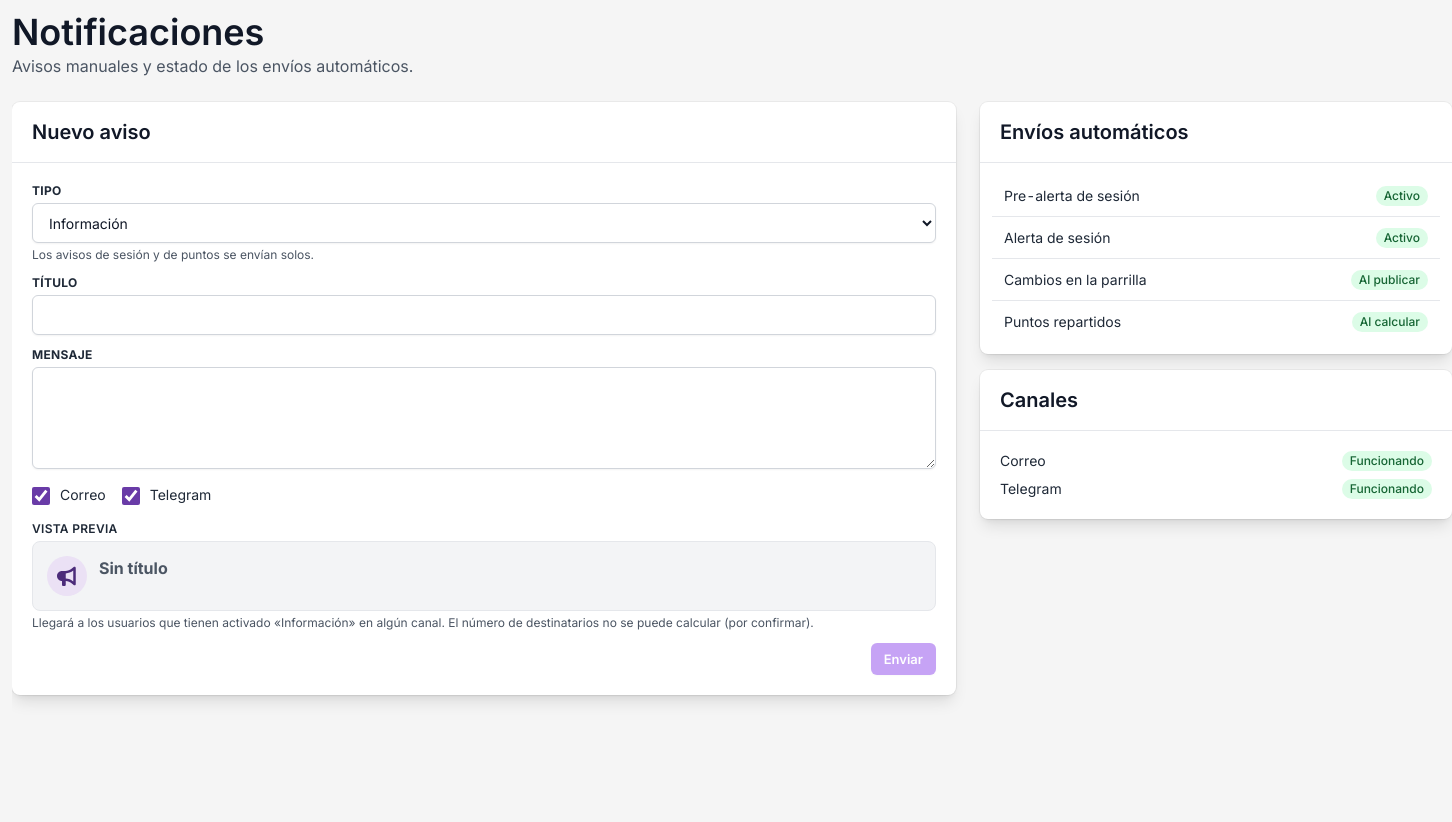
Test: admin notifications (M12) › previews live and needs title, message and a channel
The width and height of the screenshot is (1452, 822).
Expected: the checkbox labelled "Correo" is shown, [32, 487, 50, 505]
Expected: the button "Enviar" is disabled, [871, 643, 936, 675]
Type "Nuevo: Mi temporada" into the field labelled "Título". click: (484,315)
box: [32, 295, 936, 335]
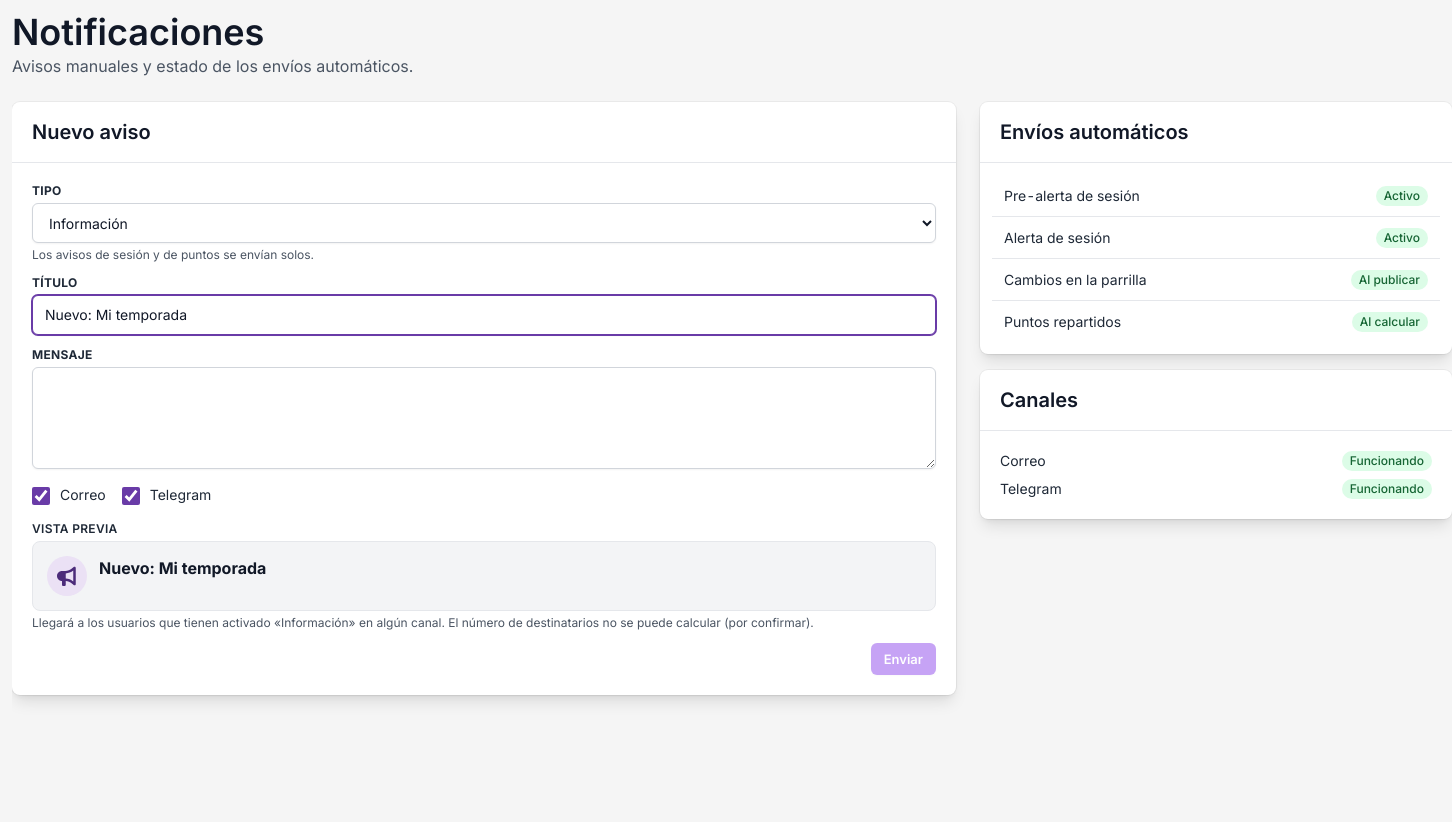
Type "Mira tu año de un vistazo." into the text box labelled "Mensaje". click: (484,418)
box: [32, 367, 936, 469]
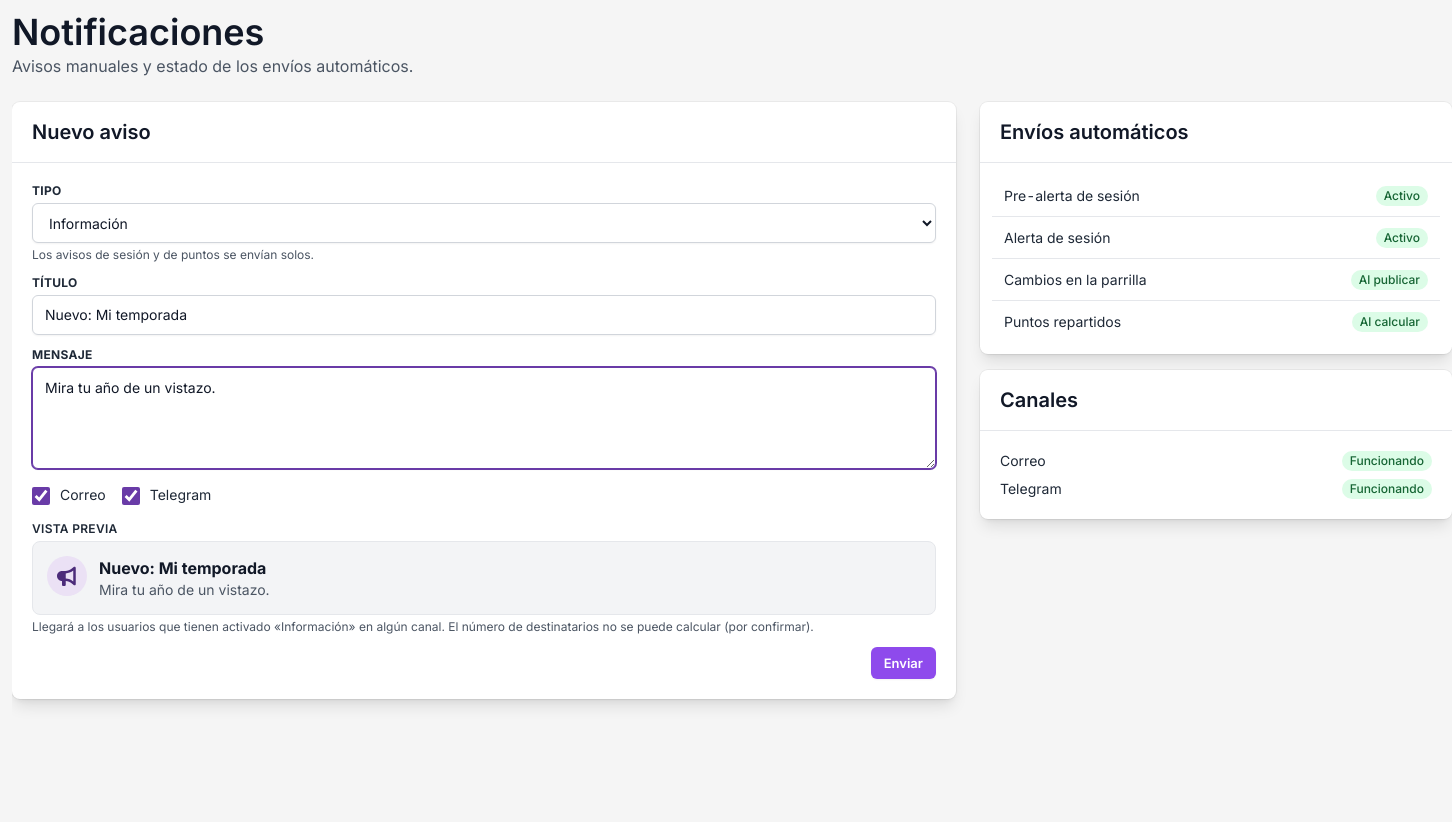
Expected: the text "Nuevo: Mi temporada" is shown, [99, 556, 270, 580]
Expected: the text "Mira tu año de un vistazo." is shown, [99, 580, 270, 600]
Expected: the button "Enviar" is enabled, [871, 647, 936, 679]
Click the checkbox labelled "Correo". click: (41,496)
box: [32, 487, 50, 505]
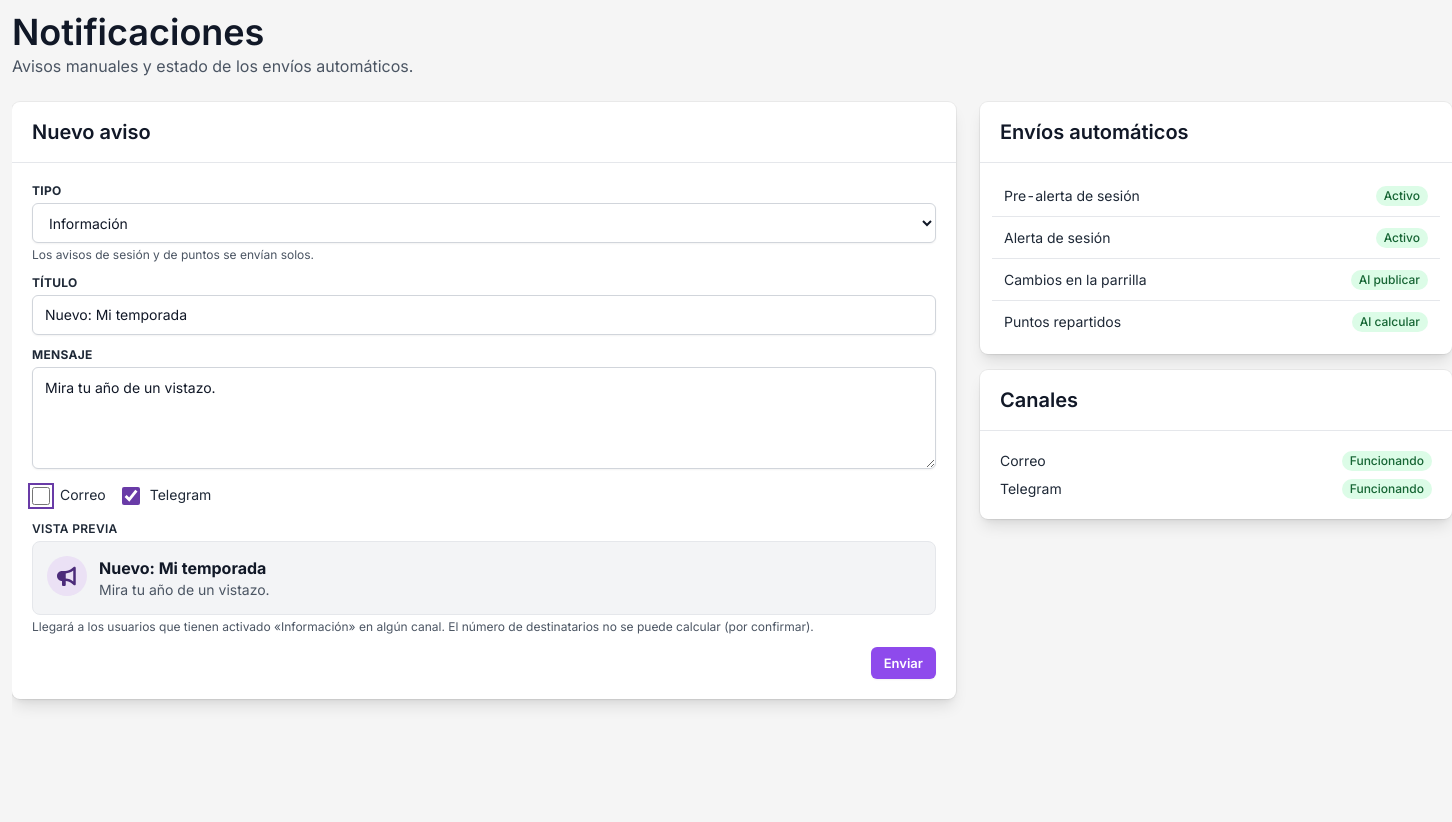
Click the checkbox labelled "Telegram". click: (131,496)
box: [122, 487, 140, 505]
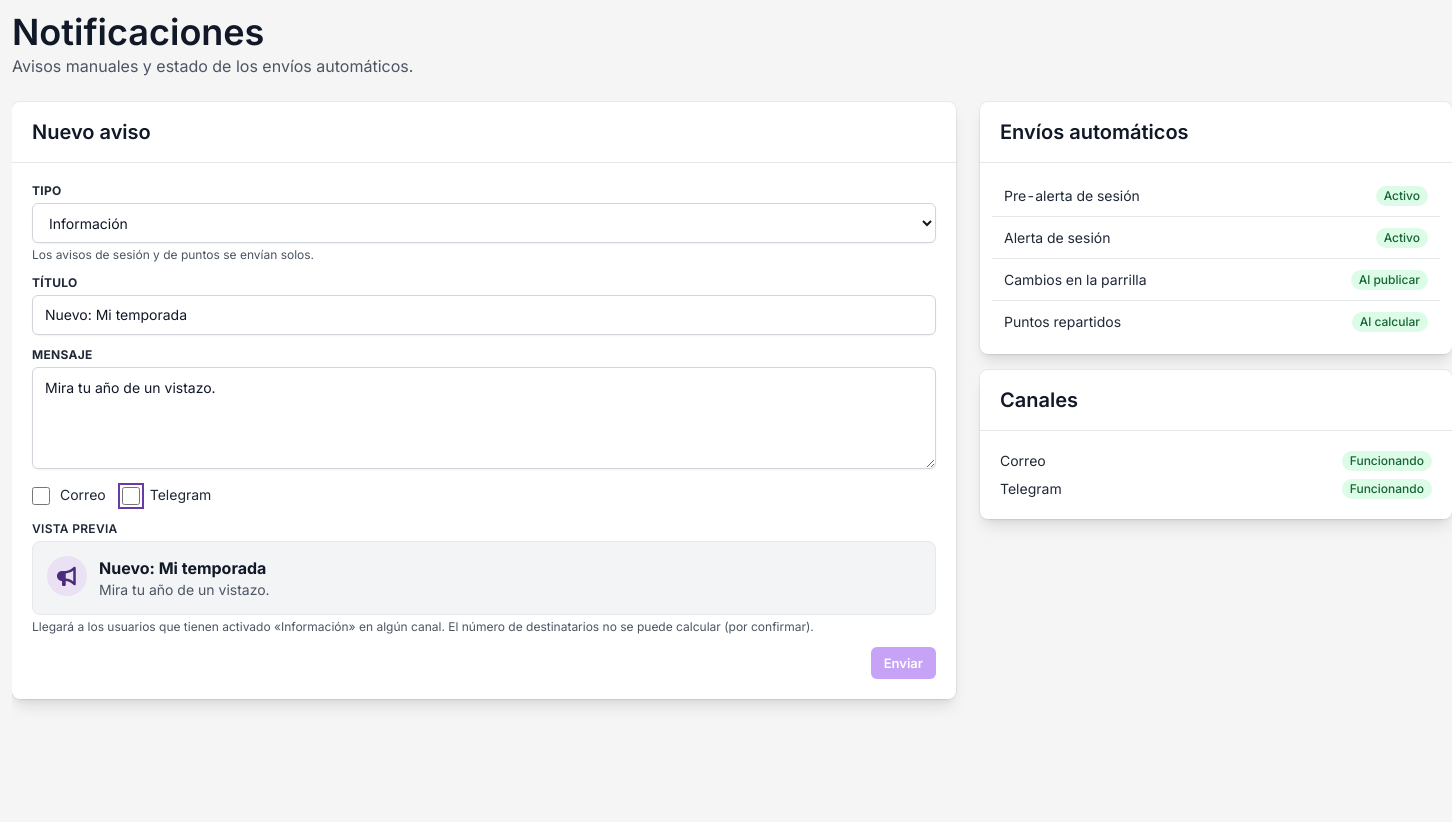
Expected: the button "Enviar" is disabled, [871, 647, 936, 679]
